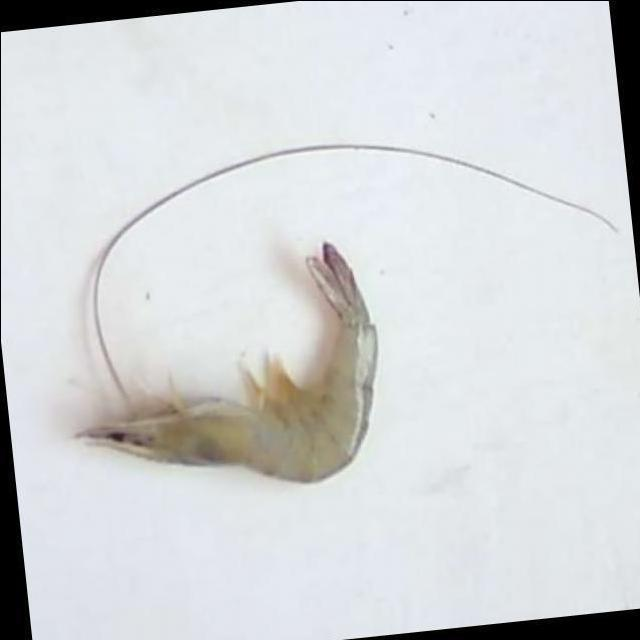shrimp: (81, 243, 377, 483)
